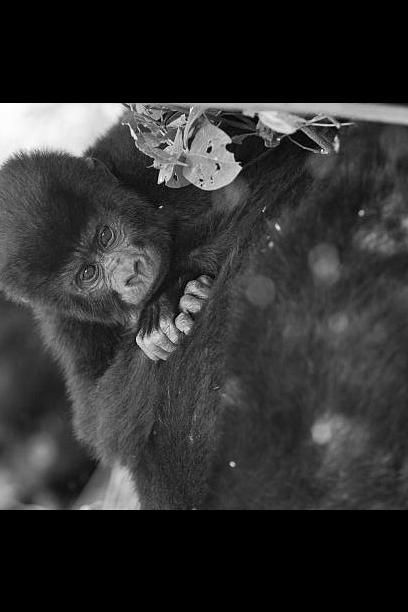goriile_montagne: (0, 102, 258, 432)
